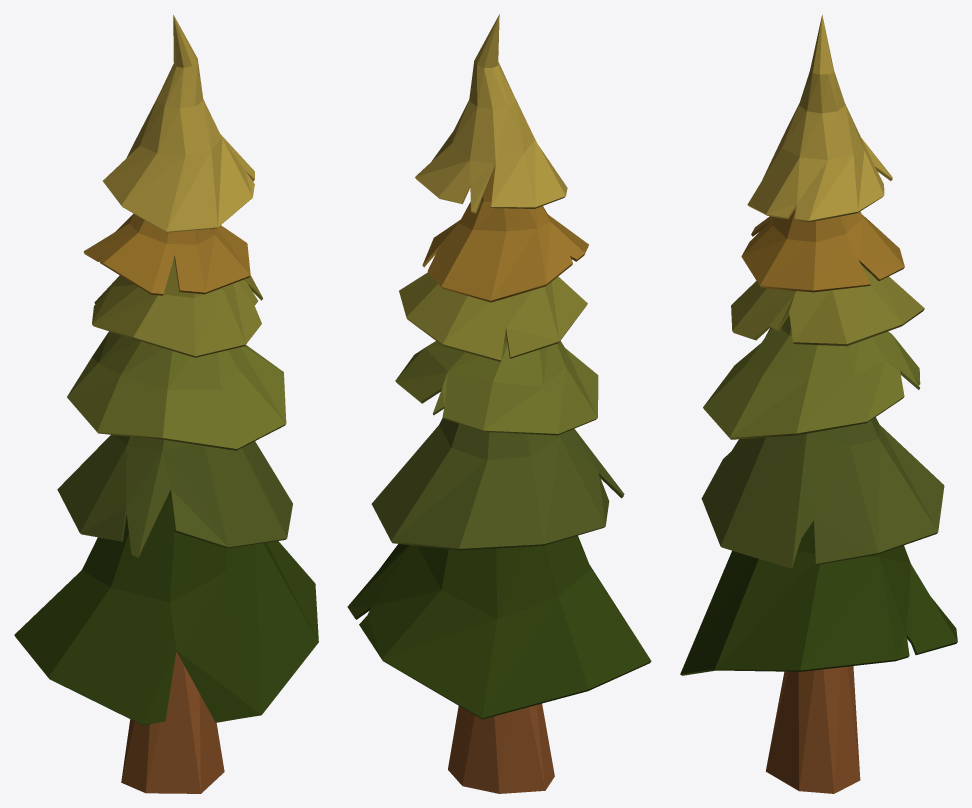
File: tree4.FBX
The picture shows the model from 3 angles, left to right: view 1: azimuth 30°, elevation 25°; view 2: azimuth 150°, elevation 25°; view 3: azimuth 270°, elevation 25°; orthographic projection.
Parts seen in each view (by area): view 1: Cone040; view 2: Cone040; view 3: Cone040.
Part boxes in pixels (x1,y1,x2,y2): Cone040: (14,15,318,793); Cone040: (347,14,651,793); Cone040: (680,15,957,793).
Size of the model in its own units: 40.02 by 108 by 35.81.
Materials: 1 (1 with a texture image).
